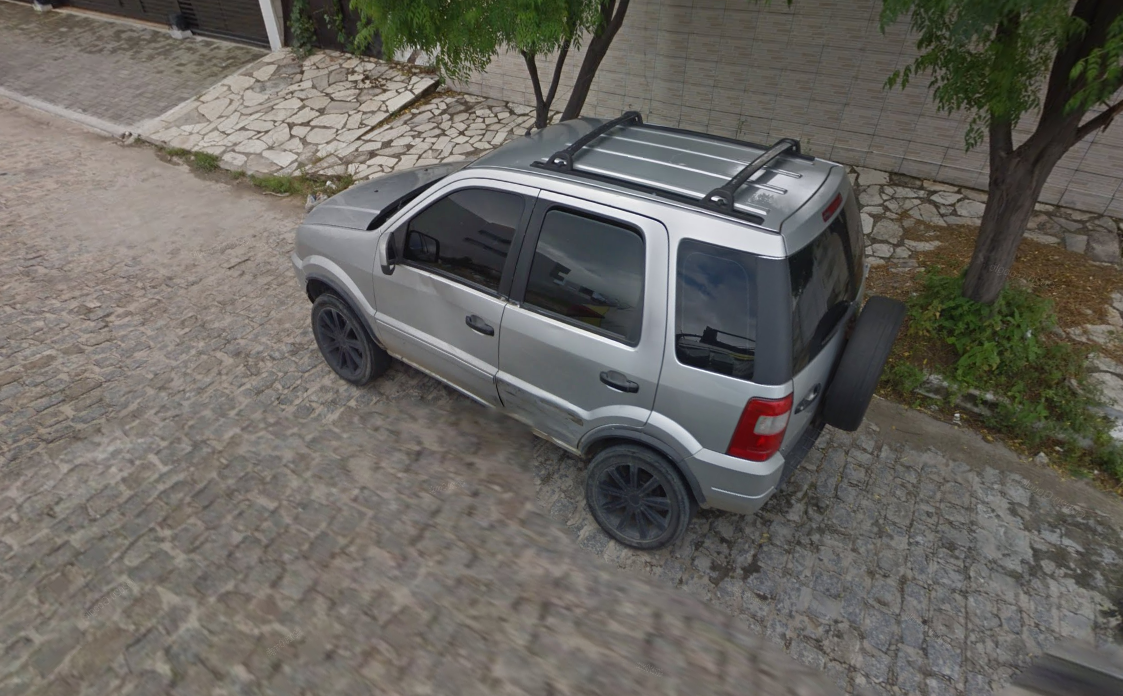car: (280, 105, 905, 552)
